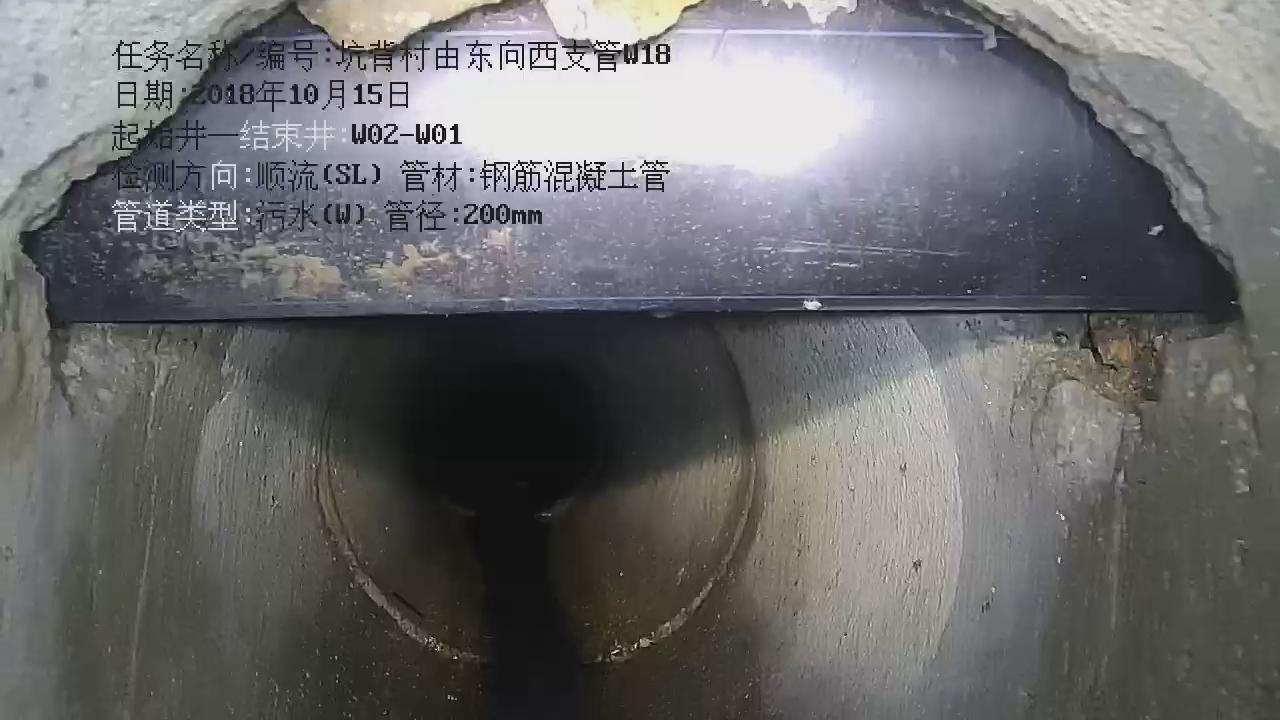YWCR: (36, 0, 1236, 322)
